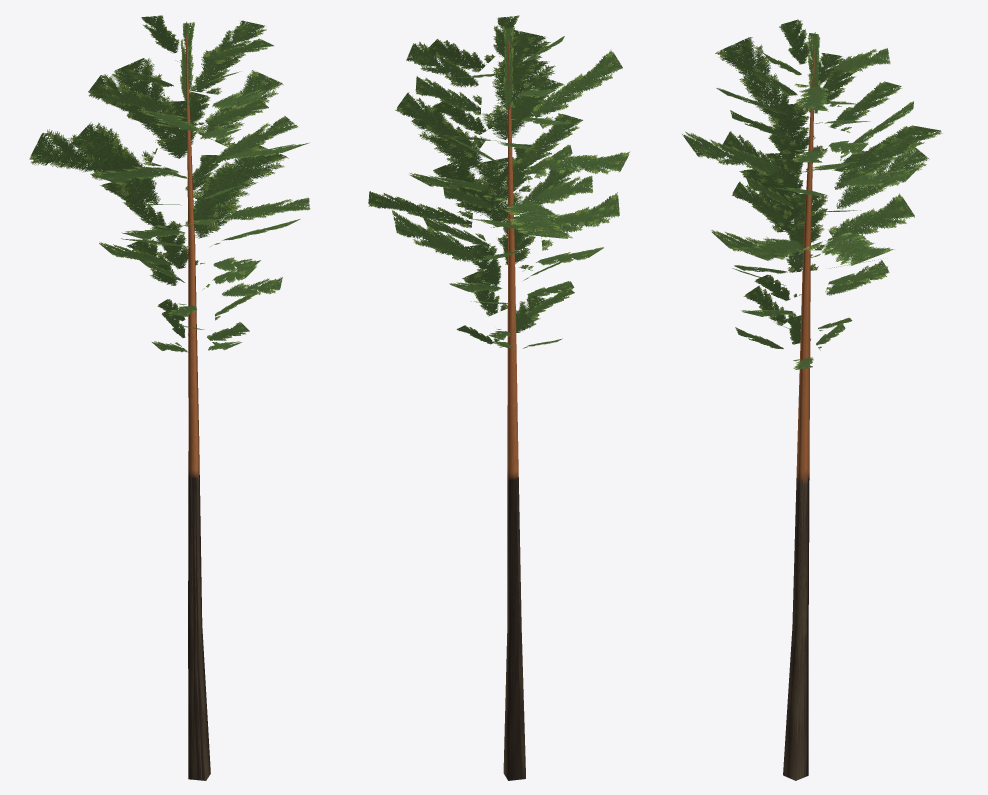
File: mid.glb
3 views of the same model, side by side, from view 1: azimuth 30°, elevation 25°; view 2: azimuth 150°, elevation 25°; view 3: azimuth 270°, elevation 25° (orthographic).
Parts seen in each view (by area): view 1: pine_01; view 2: pine_01; view 3: pine_01.
Boxes of the visible parts, left/top/right/bottom form: pine_01: left=29, top=15, right=310, bottom=780; pine_01: left=368, top=15, right=630, bottom=780; pine_01: left=682, top=19, right=942, bottom=780.
Bounding box in the file's own units: 6.83 × 17.68 × 6.63.
2 materials, 2 textured.
